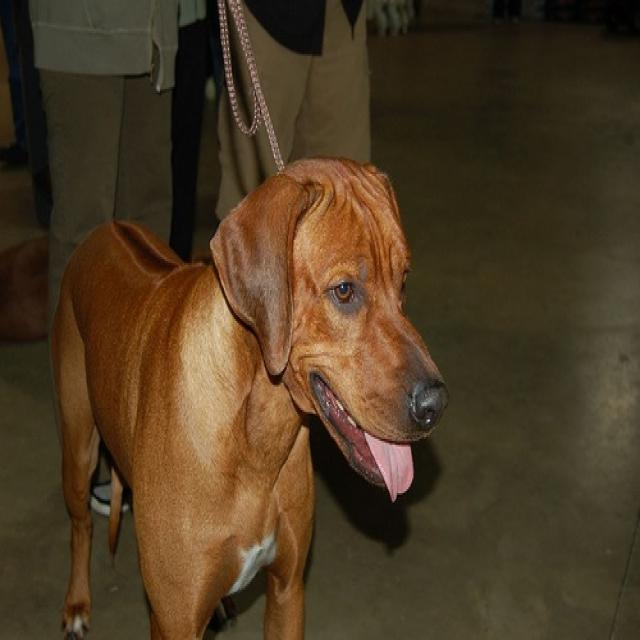dog: (49, 157, 449, 636)
